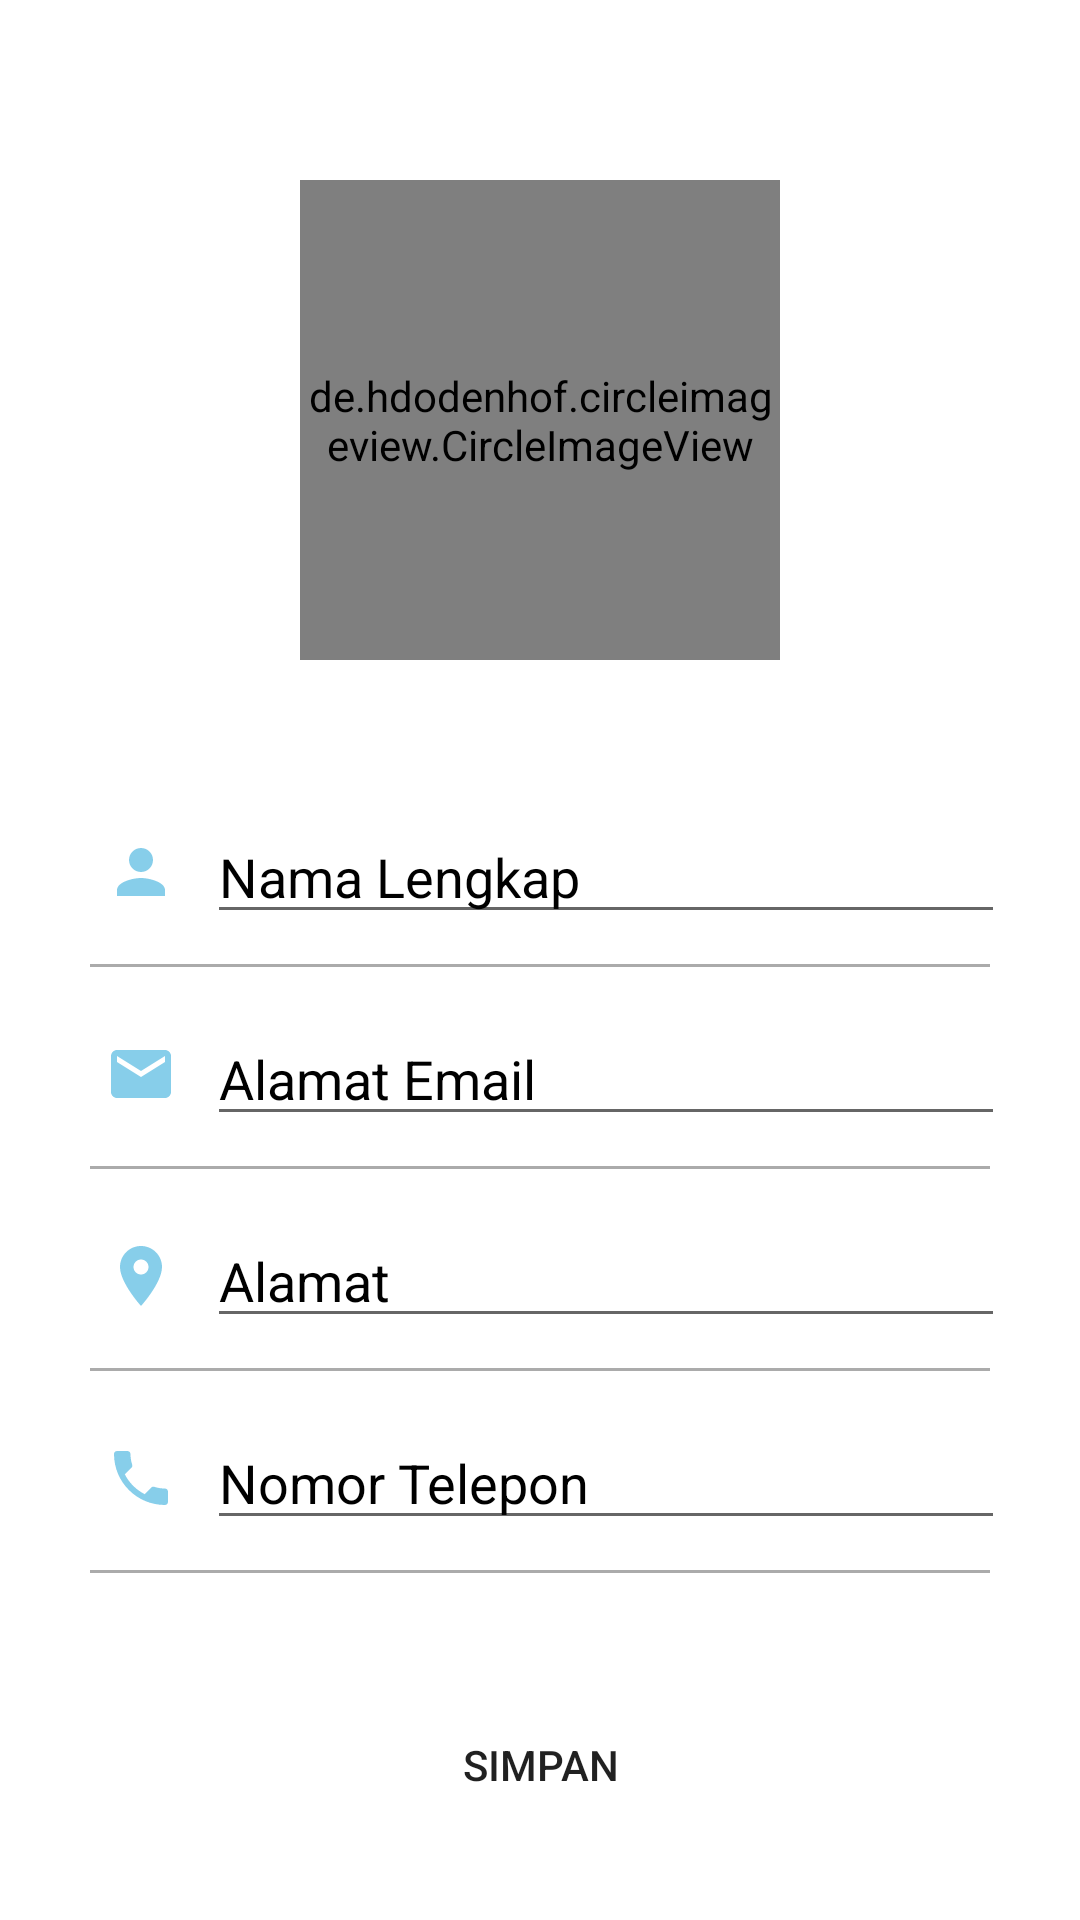

Named icons in this screenshot (1080 × 1920) and their centers, point (x, y):
location on: point (141, 1276)
person: point (141, 872)
phone: point (141, 1478)
